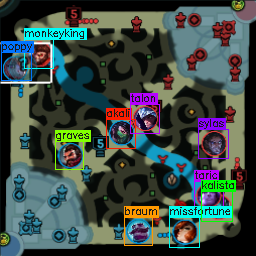akali: (108, 119, 133, 145)
braum: (125, 217, 150, 242)
graves: (58, 142, 82, 168)
kalista: (206, 194, 231, 219)
missfortune: (172, 219, 197, 244)
monkeyking: (27, 41, 50, 66)
poppy: (3, 54, 27, 80)
sylas: (201, 130, 226, 156)
talon: (133, 106, 157, 131)
taric: (195, 182, 219, 208)
